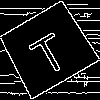T: (23, 24, 71, 78)
